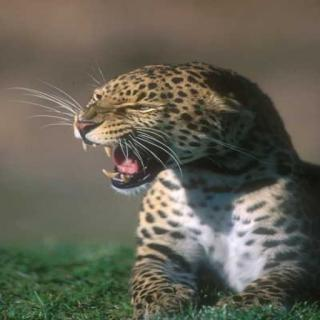Leopard: (57, 38, 320, 312)
